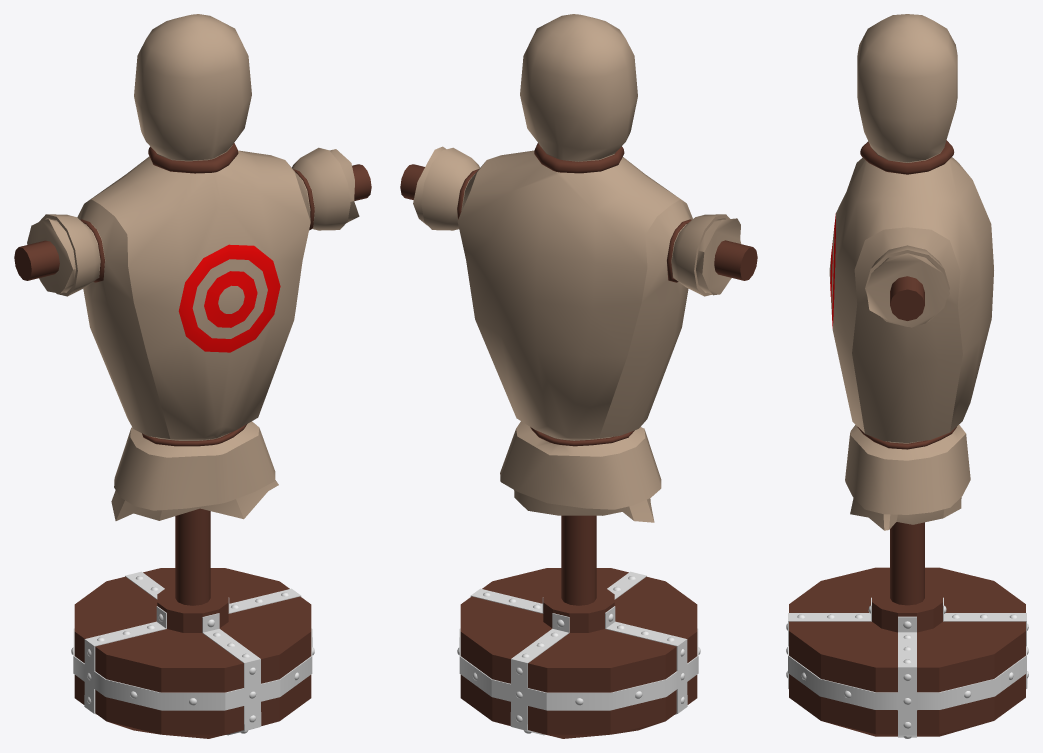
Rendered from dummy.fbx.
3 views of the same model, side by side, from view 1: azimuth 30°, elevation 25°; view 2: azimuth 150°, elevation 25°; view 3: azimuth 270°, elevation 25° (orthographic).
Visible parts, largest first — view 1: dummy; view 2: dummy; view 3: dummy.
Boxes of the visible parts, x1,y1,x2,y2 form: dummy: [14, 14, 371, 738]; dummy: [400, 14, 757, 738]; dummy: [786, 14, 1028, 738].
Bounding box in the file's own units: 224 × 442 × 139.
